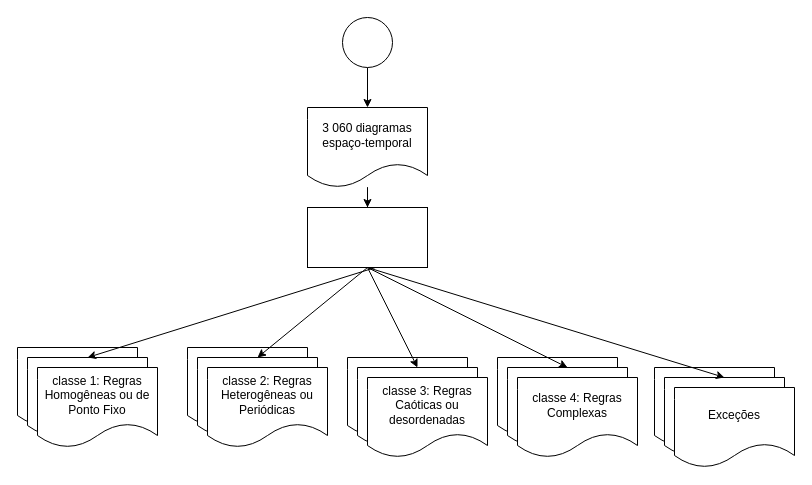
Image size: 812x485. Some labels were removed from this diagram. Here are the shapes that lost their labels. From the top down, the centre of each, then its label:
pixel 367 42: início
pixel 367 237: classificação manual dos diagramas
